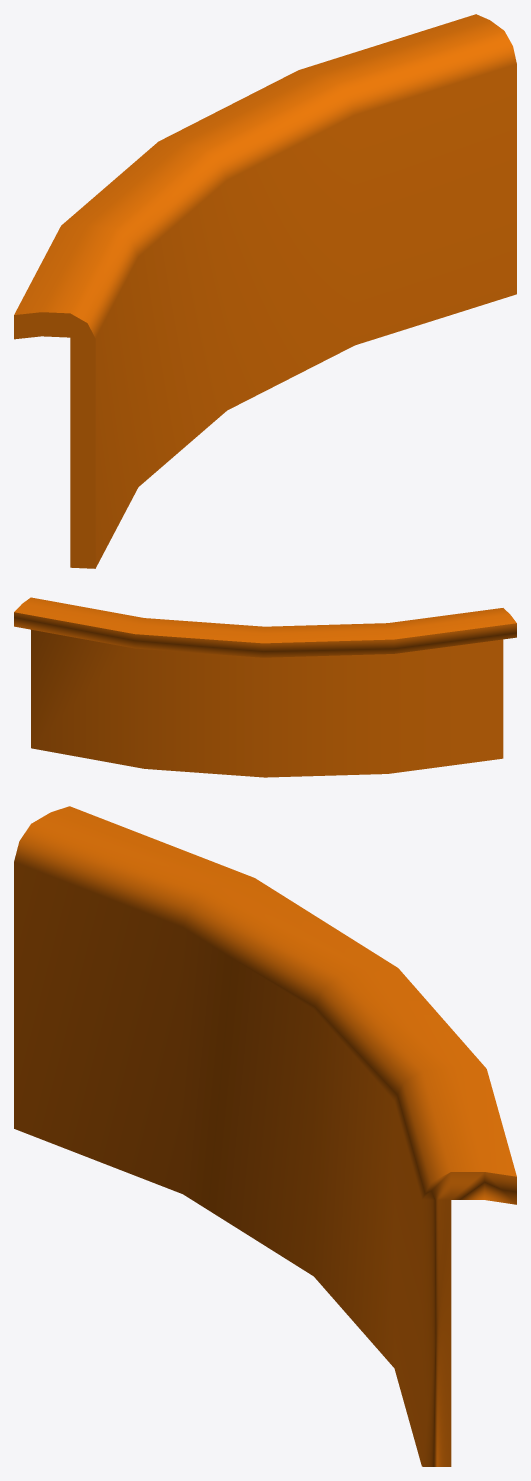
The model's file is Plastic_Pipe_F_Left_Inv.fbx.
3 views of the same model, one above another, from view 1: azimuth 30°, elevation 25°; view 2: azimuth 150°, elevation 25°; view 3: azimuth 270°, elevation 25° (orthographic). The views are drawn at different scales.
Parts seen in each view (by area): view 1: Plastic_Pipe_F_Left_Inv; view 2: Plastic_Pipe_F_Left_Inv; view 3: Plastic_Pipe_F_Left_Inv.
Part boxes in pixels (x1,y1,x2,y2): Plastic_Pipe_F_Left_Inv: (14, 14, 516, 568); Plastic_Pipe_F_Left_Inv: (14, 597, 516, 777); Plastic_Pipe_F_Left_Inv: (14, 806, 516, 1466).
Size of the model in its own units: 6.65 by 2.47 by 3.81.
